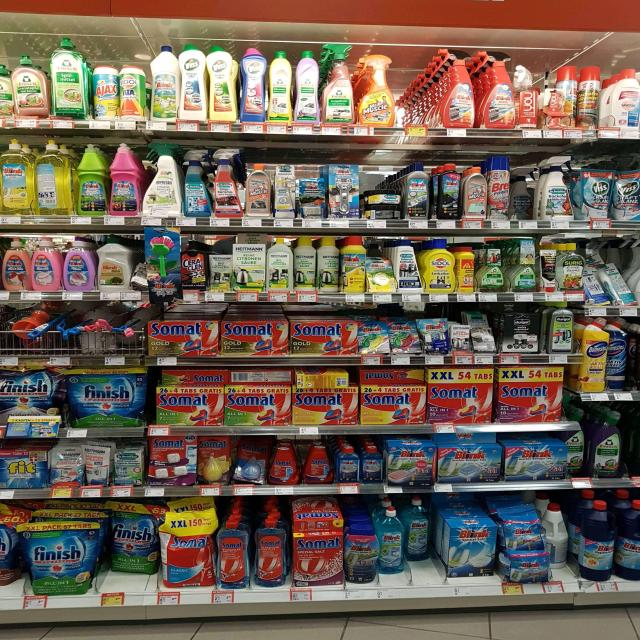empty: (49, 307, 80, 349)
